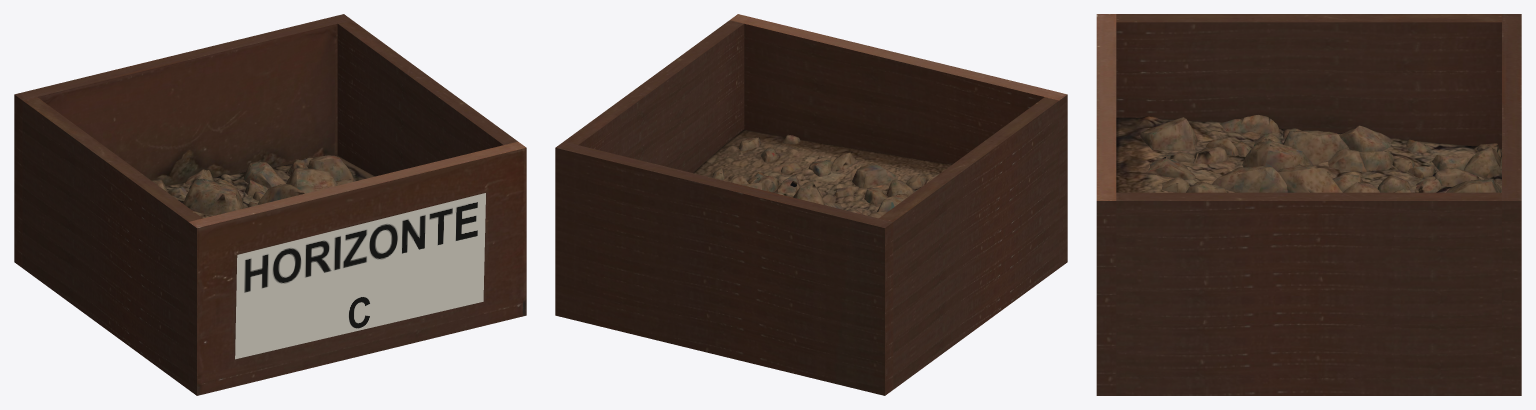
The model's file is horizonte_03_04_c.glb.
The picture shows the model from 3 angles, left to right: view 1: azimuth 30°, elevation 25°; view 2: azimuth 150°, elevation 25°; view 3: azimuth 270°, elevation 25°; orthographic projection. The views are drawn at different scales.
Visible parts, largest first — view 1: Parede_Traseira_h04, Parede_Frontal_h04, Lateral_Esquerda_h04, Etiqueta_h04, Lateral_Direita_h04, Fragmentos_h04, Conteudo_h04; view 2: Parede_Traseira_h04, Lateral_Esquerda_h04, Parede_Frontal_h04, Lateral_Direita_h04, Conteudo_h04, Fragmentos_h04; view 3: Lateral_Direita_h04, Lateral_Esquerda_h04, Fragmentos_h04, Conteudo_h04, Parede_Frontal_h04, Parede_Traseira_h04.
Part boxes in pixels (x1,y1,x2,y2): Parede_Traseira_h04: [14, 14, 351, 267]; Parede_Frontal_h04: [188, 141, 526, 395]; Lateral_Esquerda_h04: [22, 97, 202, 389]; Etiqueta_h04: [235, 193, 485, 359]; Lateral_Direita_h04: [337, 20, 517, 176]; Fragmentos_h04: [151, 155, 353, 218]; Conteudo_h04: [165, 156, 374, 216]; Parede_Traseira_h04: [555, 141, 893, 395]; Lateral_Esquerda_h04: [879, 97, 1059, 389]; Parede_Frontal_h04: [730, 14, 1067, 267]; Lateral_Direita_h04: [564, 20, 744, 172]; Conteudo_h04: [693, 129, 951, 215]; Fragmentos_h04: [712, 134, 926, 218]; Lateral_Direita_h04: [1116, 192, 1501, 395]; Lateral_Esquerda_h04: [1116, 14, 1501, 148]; Fragmentos_h04: [1140, 115, 1501, 192]; Conteudo_h04: [1116, 116, 1501, 192]; Parede_Frontal_h04: [1096, 14, 1116, 395]; Parede_Traseira_h04: [1502, 14, 1521, 395].
Bounding box in the file's own units: 0.3 × 0.1459 × 0.2883.
Materials: 4 (4 with a texture image).
